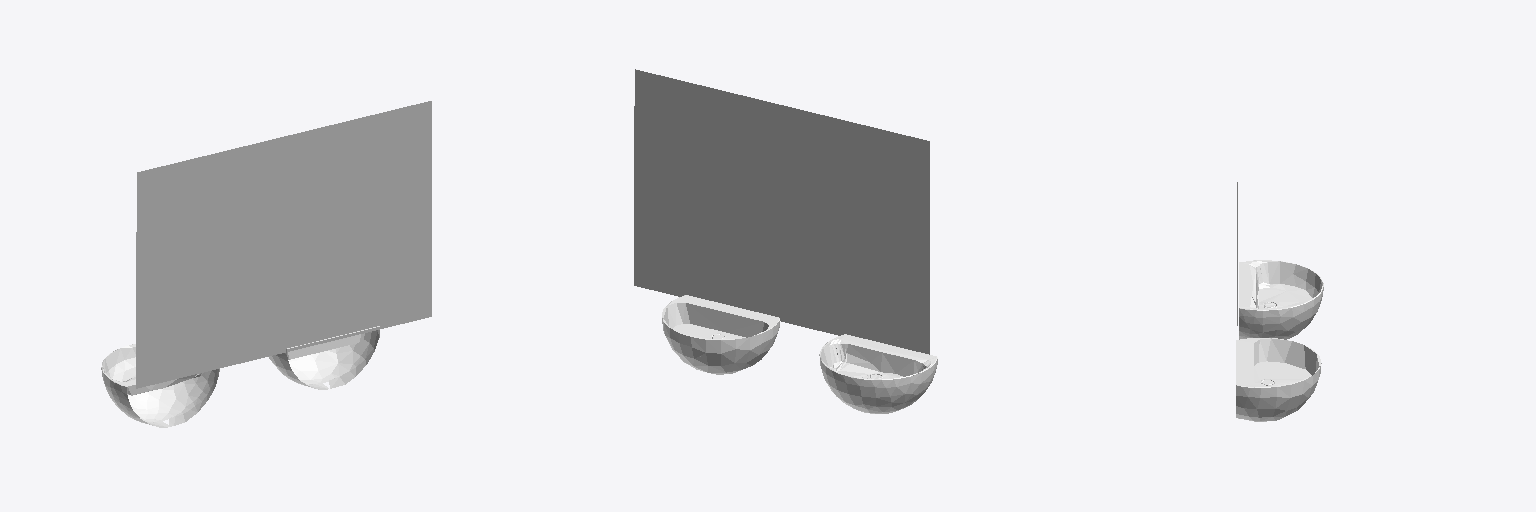
The model's file is mirror.obj.
The picture shows the model from 3 angles: view 1: azimuth 30°, elevation 25°; view 2: azimuth 150°, elevation 25°; view 3: azimuth 270°, elevation 25°; orthographic projection.
Visible parts, largest first — view 1: G-__555564.001; view 2: G-__555564.001; view 3: G-__555564.001.
Boxes of the visible parts, x1,y1,x2,y2 form: G-__555564.001: [101, 101, 431, 427]; G-__555564.001: [634, 69, 937, 413]; G-__555564.001: [1236, 182, 1323, 421].
Bounding box in the file's own units: 2.09 × 1.73 × 0.5143.